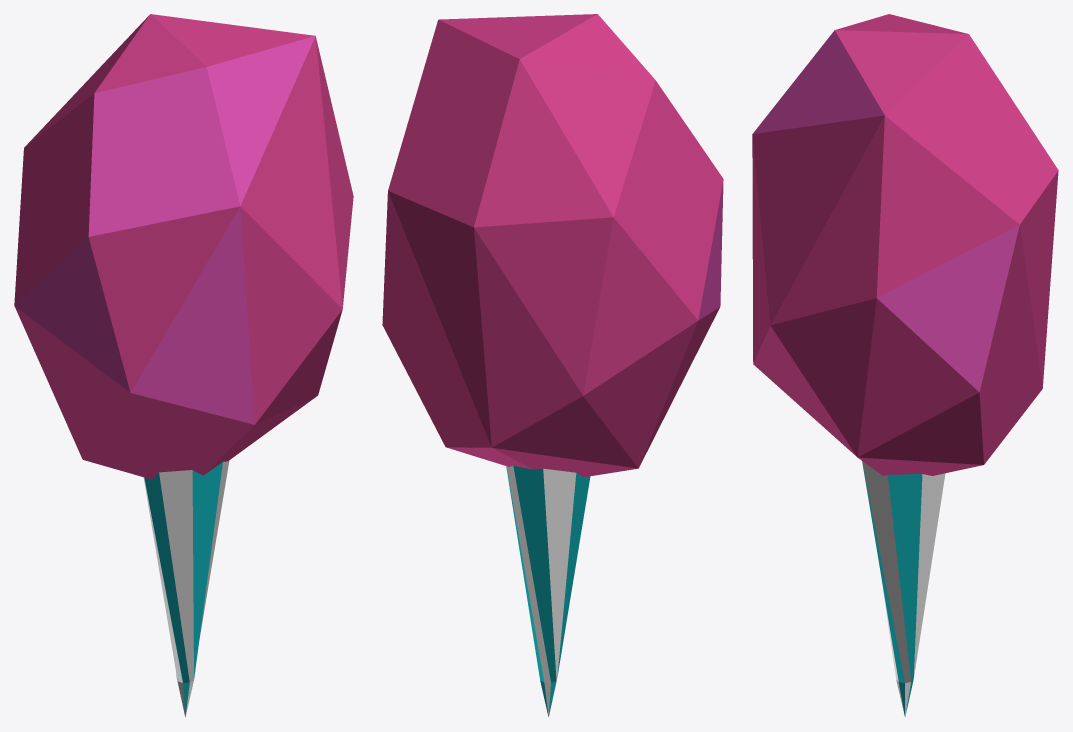
The model's file is Food_CottonCandy01.fbx.
3 renders of one model, left to right at view 1: azimuth 30°, elevation 25°; view 2: azimuth 150°, elevation 25°; view 3: azimuth 270°, elevation 25°, orthographic.
Parts seen in each view (by area): view 1: Cone.001; view 2: Cone.001; view 3: Cone.001.
Boxes of the visible parts, left/top/right/bottom form: Cone.001: left=14, top=14, right=353, bottom=717; Cone.001: left=382, top=14, right=723, bottom=716; Cone.001: left=752, top=14, right=1058, bottom=717.
Bounding box in the file's own units: 29.52 × 61.15 × 24.86.
